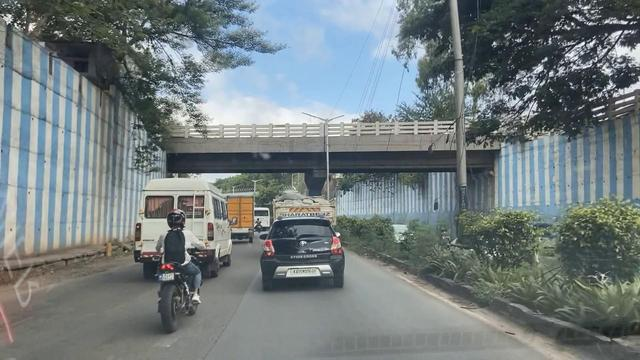HMV: (124, 170, 231, 278), (224, 195, 254, 240)
LMV: (261, 217, 345, 291), (155, 212, 203, 331)
